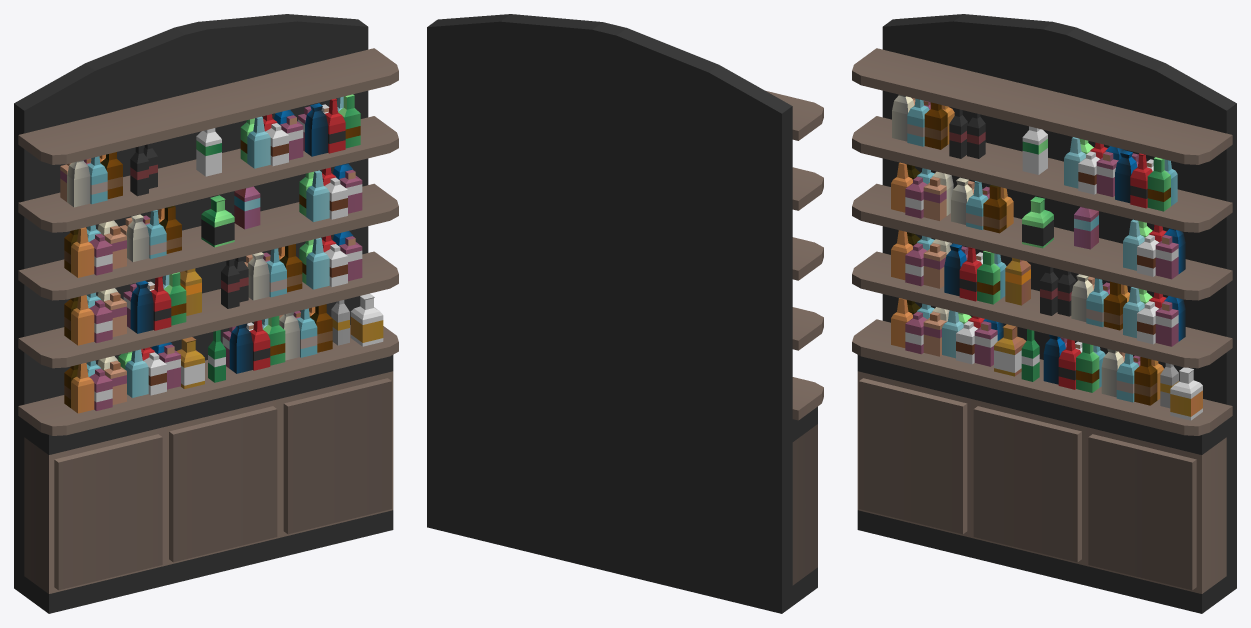
Rendered from B01_Buffet.fbx.
The picture shows the model from 3 angles, left to right: view 1: azimuth 30°, elevation 25°; view 2: azimuth 150°, elevation 25°; view 3: azimuth 330°, elevation 25°; orthographic projection. The views are drawn at different scales.
Parts seen in each view (by area): view 1: B01_Buffet; view 2: B01_Buffet; view 3: B01_Buffet.
Part boxes in pixels (x1,y1,x2,y2): B01_Buffet: (14,14,398,613); B01_Buffet: (427,14,823,613); B01_Buffet: (852,14,1236,613).
Bounding box in the file's own units: 186 × 260 × 38.21.
